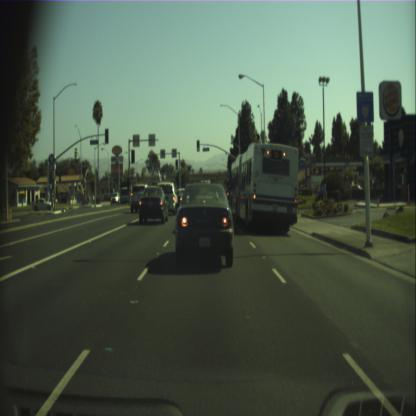Green: (196, 140, 199, 151), (176, 160, 178, 170)
